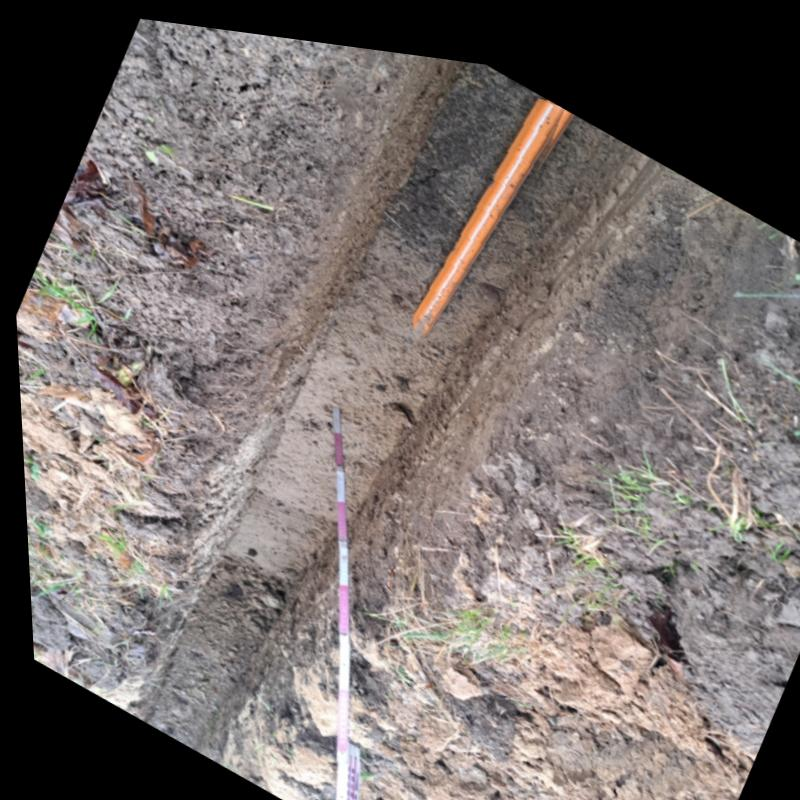Orang-Speednetrohrchen: (409, 84, 565, 325)
